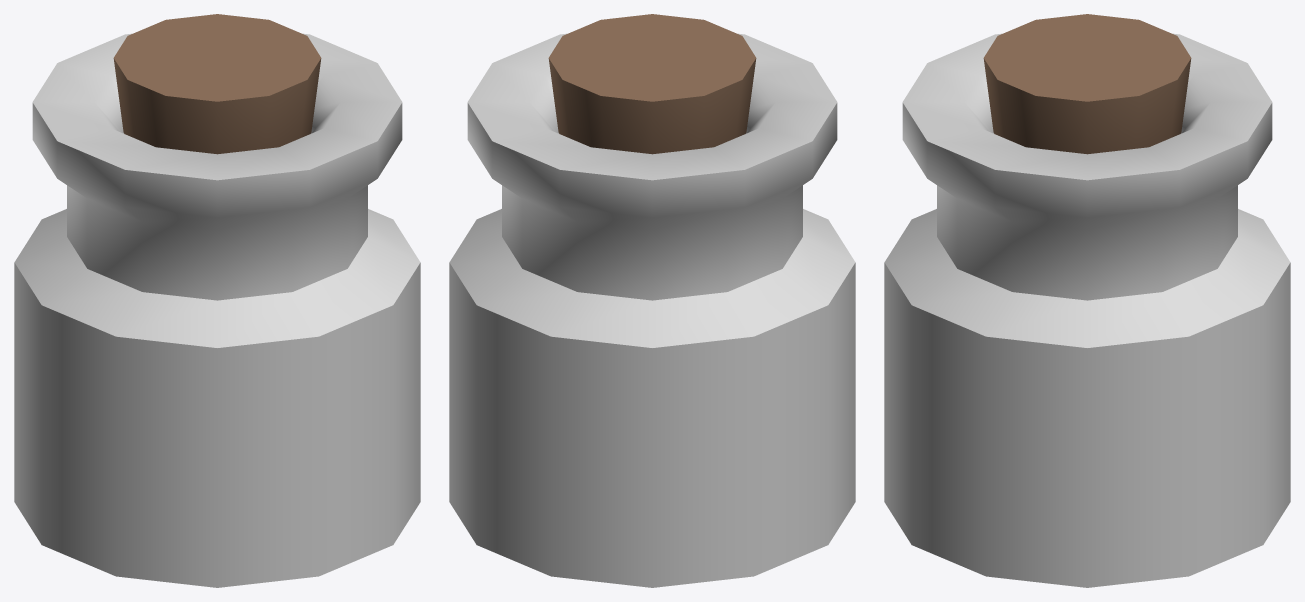
File: human-containers-glass-bottle_v4.glb
3 views of the same model, side by side, from view 1: azimuth 30°, elevation 25°; view 2: azimuth 150°, elevation 25°; view 3: azimuth 270°, elevation 25° (orthographic).
Visible parts, largest first — view 1: Glass Bottle_v4; view 2: Glass Bottle_v4; view 3: Glass Bottle_v4.
Boxes of the visible parts, x1=… form: Glass Bottle_v4: x1=14, y1=14, x2=420, y2=587; Glass Bottle_v4: x1=449, y1=14, x2=855, y2=587; Glass Bottle_v4: x1=884, y1=14, x2=1290, y2=587.
Size of the model in its own units: 0.1243 by 0.15 by 0.1243.
